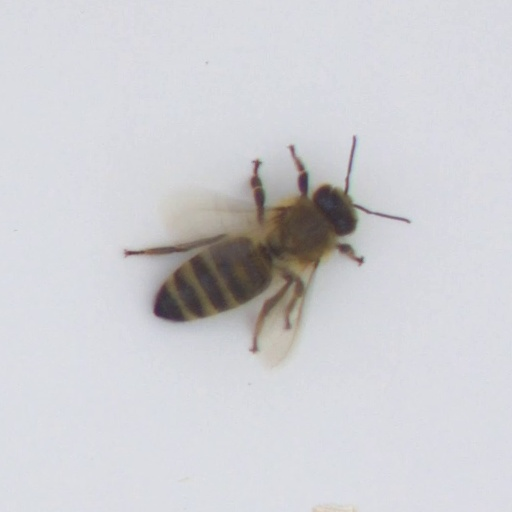Bee: (135, 178, 371, 337)
Thorax: (262, 195, 335, 263)
